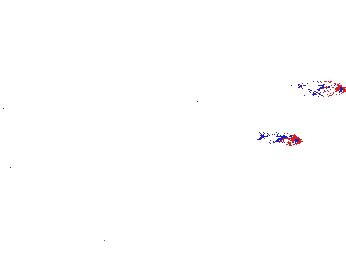red belly glassfish: (297, 79, 346, 101), (252, 130, 303, 149)
